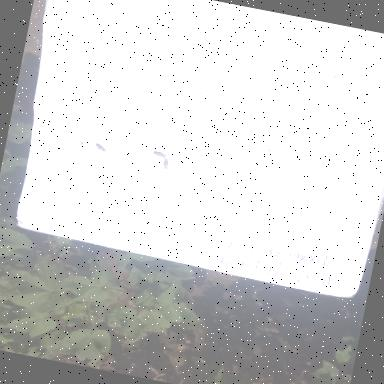pbw: (88, 136, 115, 159), (145, 146, 170, 160), (160, 155, 178, 173)
